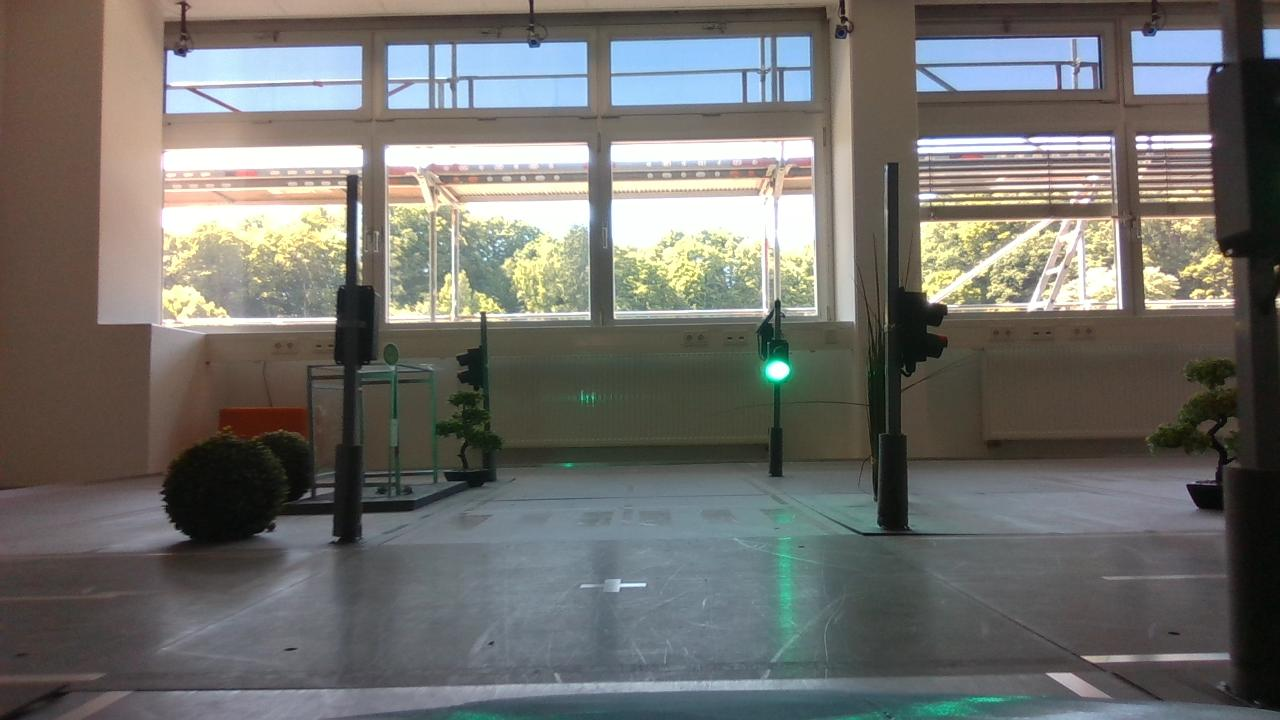traffic_light_green: (749, 327, 804, 397)
